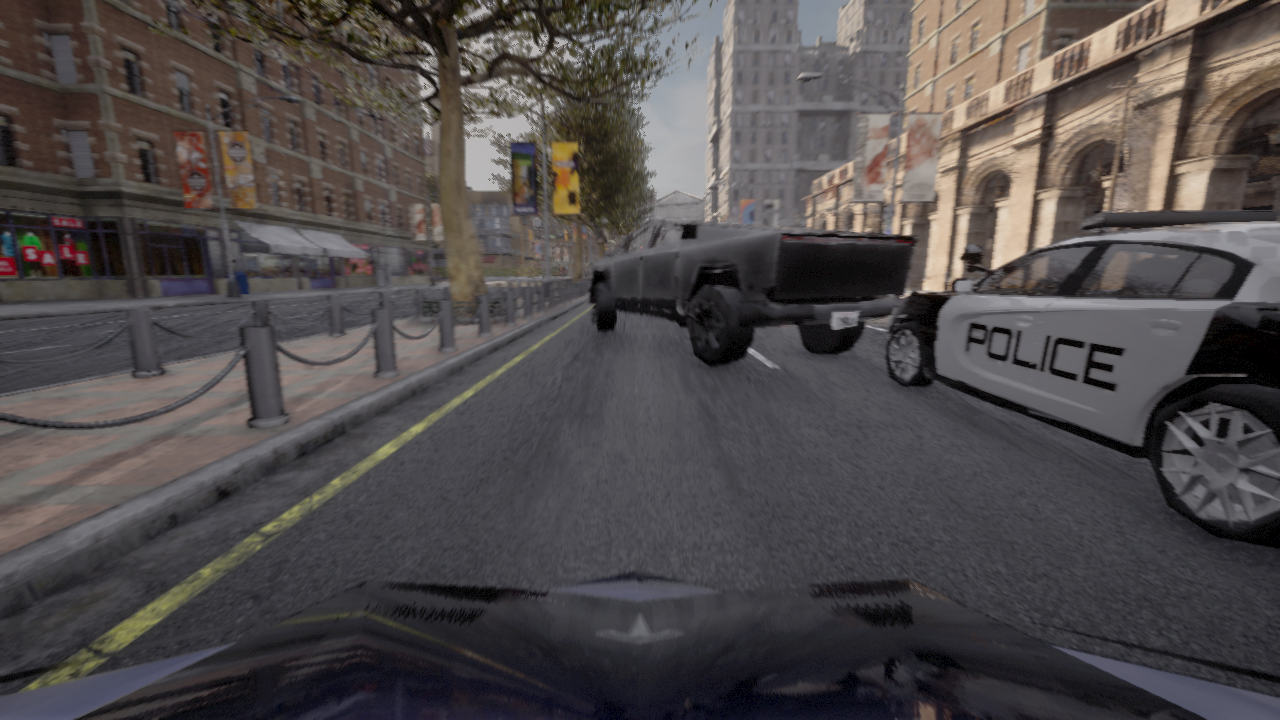cyclist: (0, 569, 1279, 719), (886, 209, 1279, 548), (588, 220, 916, 366)
pedestrian: (224, 258, 241, 278)
